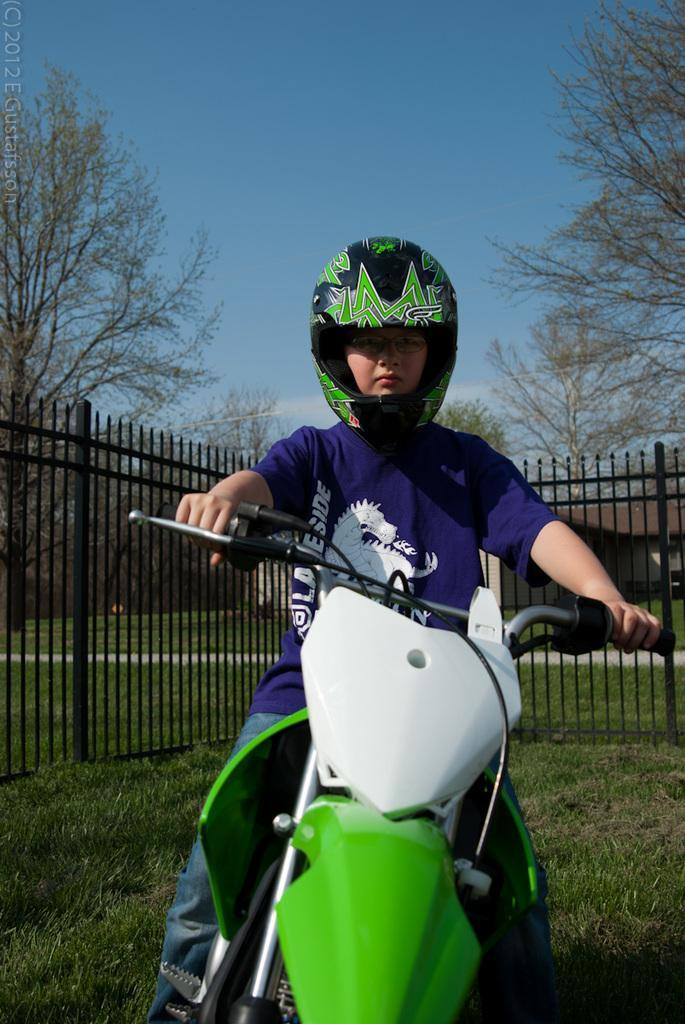helmet: (309, 234, 461, 458)
